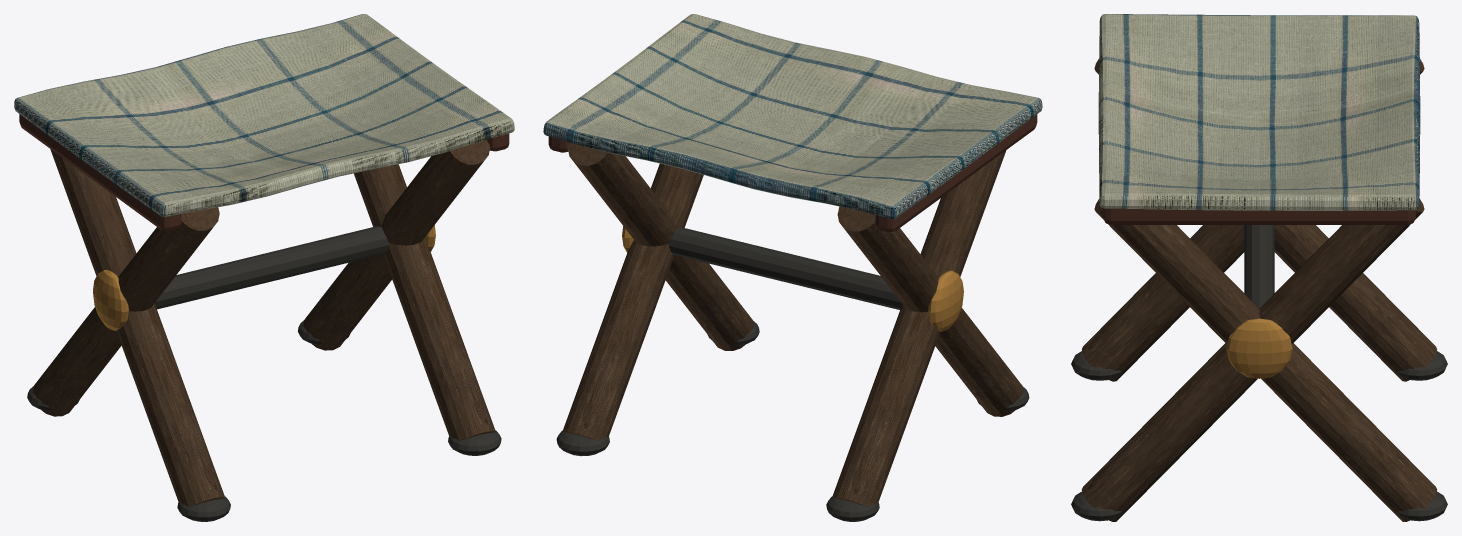
The model's file is campaign-stool.glb.
The picture shows the model from 3 angles, left to right: view 1: azimuth 30°, elevation 25°; view 2: azimuth 150°, elevation 25°; view 3: azimuth 270°, elevation 25°; orthographic projection. The views are drawn at different scales.
Visible parts, largest first — view 1: StoolCanvas, StoolFrameB_-1, StoolFrameB_1, StoolFrameA_1, StoolFrameA_-1, StoolCrossBrace, StoolLeatherEdge_-1, StoolPivot_-1, StoolFoot_1_0.25, StoolFoot_-1_0.25; view 2: StoolCanvas, StoolFrameA_-1, StoolFrameA_1, StoolFrameB_1, StoolFrameB_-1, StoolCrossBrace, StoolLeatherEdge_-1, StoolPivot_-1, StoolFoot_1_-0.25, StoolFoot_-1_-0.25; view 3: StoolCanvas, StoolFrameA_1, StoolFrameB_1, StoolFrameA_-1, StoolFrameB_-1, StoolLeatherEdge_1, StoolPivot_1, StoolCrossBrace, StoolFoot_-1_-0.25, StoolFoot_-1_0.25, StoolFoot_1_-0.25, StoolFoot_1_0.25.
Boxes of the visible parts, <box> form: StoolCanvas: <box>14,14,514,217</box>; StoolFrameB_-1: <box>50,149,225,506</box>; StoolFrameB_1: <box>354,164,495,440</box>; StoolFrameA_1: <box>303,139,490,350</box>; StoolFrameA_-1: <box>32,207,219,416</box>; StoolCrossBrace: <box>154,226,388,309</box>; StoolLeatherEdge_-1: <box>19,114,181,231</box>; StoolPivot_-1: <box>93,270,128,330</box>; StoolFoot_1_0.25: <box>448,430,501,455</box>; StoolFoot_-1_0.25: <box>177,496,230,521</box>; StoolCanvas: <box>543,14,1042,219</box>; StoolFrameA_-1: <box>832,150,1006,506</box>; StoolFrameA_1: <box>562,163,703,440</box>; StoolFrameB_1: <box>568,143,753,350</box>; StoolFrameB_-1: <box>837,206,1023,416</box>; StoolCrossBrace: <box>668,227,902,309</box>; StoolLeatherEdge_-1: <box>875,114,1037,232</box>; StoolPivot_-1: <box>928,270,963,331</box>; StoolFoot_1_-0.25: <box>556,430,609,456</box>; StoolFoot_-1_-0.25: <box>826,496,879,521</box>; StoolCanvas: <box>1098,14,1420,210</box>; StoolFrameA_1: <box>1094,199,1437,521</box>; StoolFrameB_1: <box>1081,198,1424,521</box>; StoolFrameA_-1: <box>1094,58,1437,381</box>; StoolFrameB_-1: <box>1081,59,1424,381</box>; StoolLeatherEdge_1: <box>1103,208,1415,224</box>; StoolPivot_1: <box>1226,318,1292,378</box>; StoolCrossBrace: <box>1244,225,1274,308</box>; StoolFoot_-1_-0.25: <box>1396,351,1447,380</box>; StoolFoot_-1_0.25: <box>1071,351,1122,380</box>; StoolFoot_1_-0.25: <box>1396,491,1447,521</box>; StoolFoot_1_0.25: <box>1071,491,1122,521</box>.
Size of the model in its own units: 0.6825 by 0.5961 by 0.59.
Materials: 5 (2 with a texture image).
